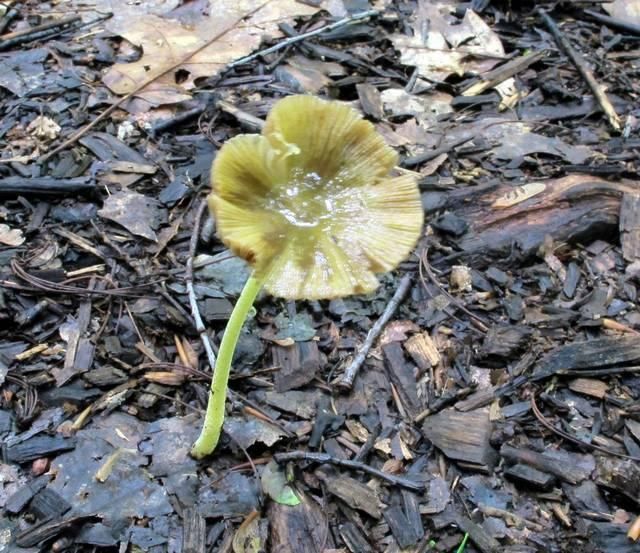Edible Mushroom: (187, 92, 425, 460)
